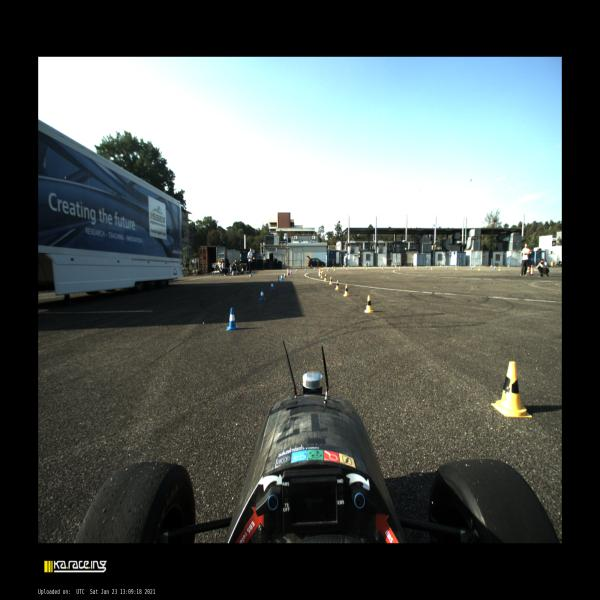blue_cone: (226, 307, 239, 331), (259, 288, 265, 301), (269, 281, 275, 291), (276, 276, 280, 283), (280, 274, 284, 281), (284, 272, 286, 278), (288, 270, 290, 275), (290, 269, 292, 273), (328, 266, 330, 270), (494, 266, 496, 270), (471, 266, 473, 269), (296, 268, 297, 272), (314, 268, 316, 270), (426, 266, 428, 268), (446, 266, 448, 268), (365, 266, 367, 268), (305, 268, 306, 271), (383, 266, 384, 269), (404, 266, 405, 268)
large_orange_cone: (286, 268, 290, 276), (318, 268, 320, 274)
yellow_cone: (491, 361, 533, 418), (364, 296, 374, 313), (343, 285, 349, 296), (335, 280, 340, 290), (329, 276, 333, 284), (527, 266, 530, 272), (320, 273, 323, 278), (498, 266, 501, 271), (324, 274, 326, 281), (478, 265, 480, 271), (218, 259, 220, 264), (322, 268, 324, 272), (346, 266, 348, 270), (382, 266, 384, 270), (415, 266, 417, 270), (430, 266, 432, 270), (455, 266, 457, 270), (321, 268, 322, 272), (327, 267, 328, 271), (366, 266, 367, 270), (399, 266, 400, 270), (319, 273, 320, 276), (334, 267, 335, 270)
